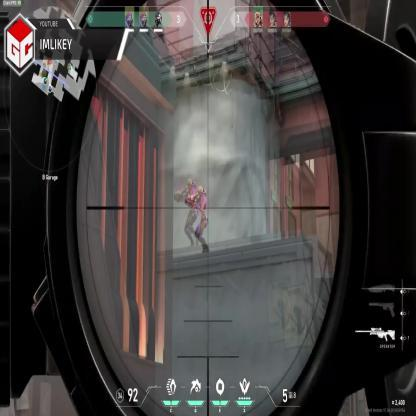enemy: (192, 186, 210, 260)
enemy_head: (197, 187, 204, 198)
